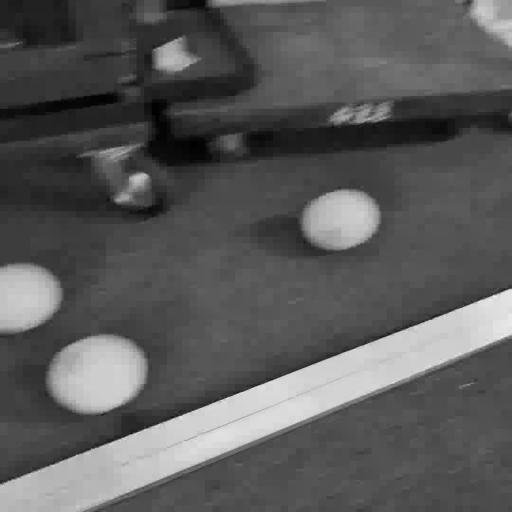fuel: (46, 335, 147, 414), (299, 189, 380, 251), (0, 264, 62, 334)
